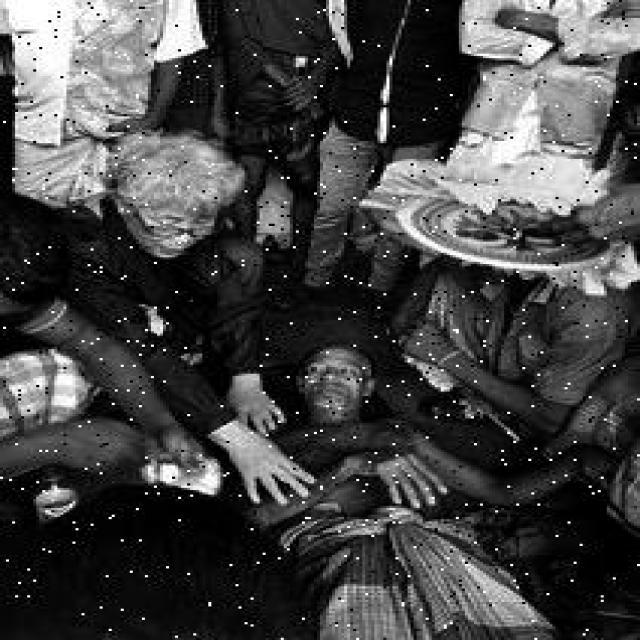fall: (241, 344, 625, 638)
